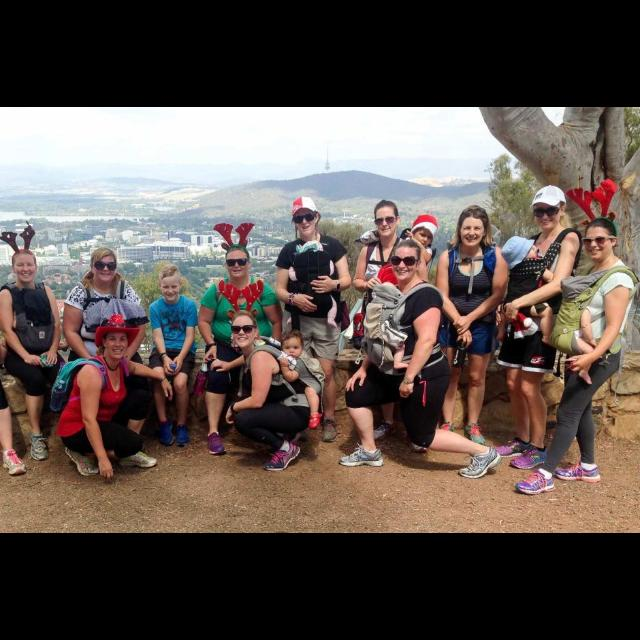head: (584, 219, 620, 263), (534, 187, 566, 231), (392, 240, 422, 284), (458, 209, 488, 249), (374, 200, 402, 238), (89, 248, 118, 284), (230, 313, 258, 349), (294, 200, 320, 237), (102, 326, 130, 360), (12, 249, 40, 283), (225, 246, 252, 280), (158, 268, 184, 302), (506, 238, 538, 262), (413, 218, 437, 250), (282, 333, 304, 361), (305, 240, 325, 260)
person: (338, 236, 504, 482), (486, 184, 586, 474), (349, 198, 441, 458), (208, 278, 328, 474), (194, 221, 290, 459), (46, 314, 176, 478), (271, 195, 355, 448), (432, 206, 514, 456), (61, 246, 155, 464), (0, 220, 64, 466), (144, 263, 202, 452), (359, 213, 441, 323), (492, 234, 566, 350), (270, 331, 328, 434), (284, 238, 342, 330)
